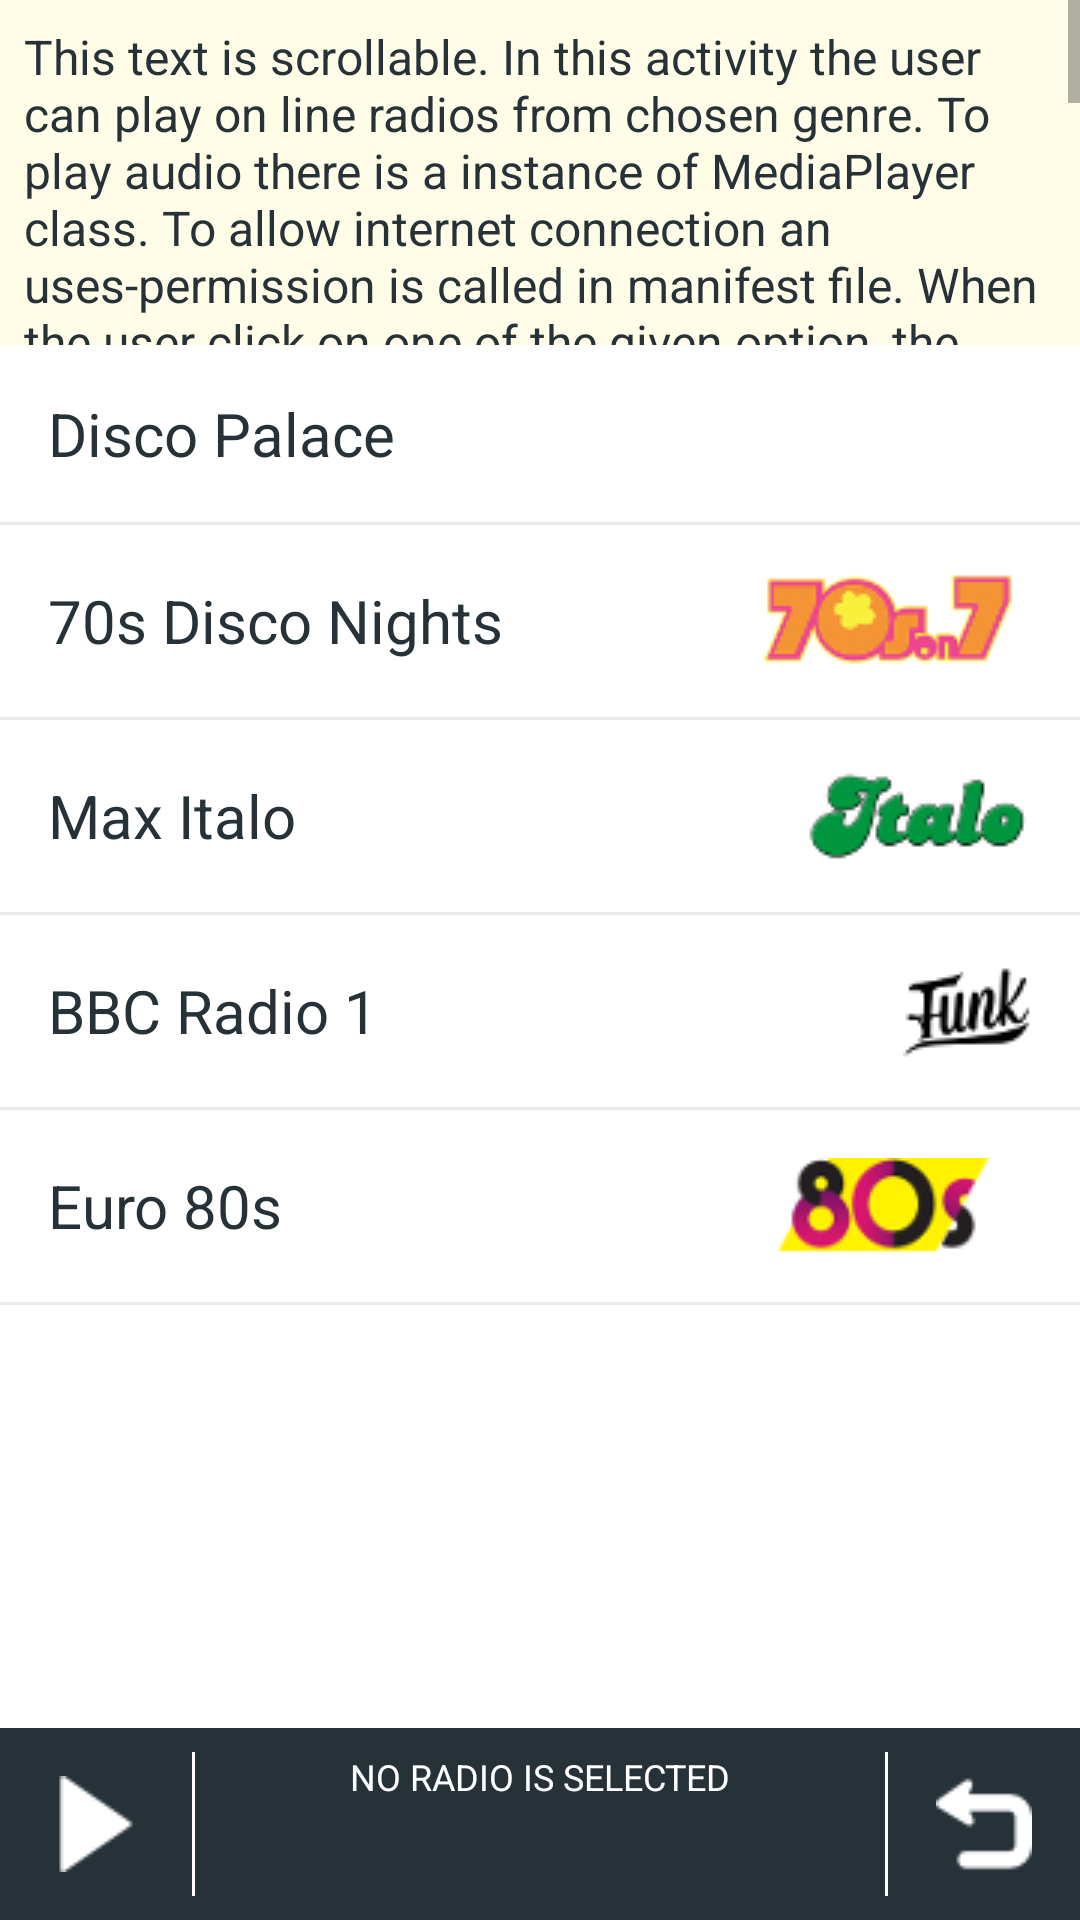

Icon bounding boxes for this 1080 x 1920 phone screenshot, format rect(x1, y1, x2, y2):
playbutton: rect(59, 1776, 133, 1872)
returnbutton: rect(936, 1778, 1032, 1870)
